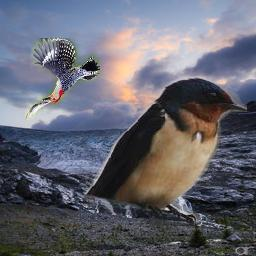Swallow: (83, 76, 247, 226)
Woodpecker: (26, 38, 101, 120)
